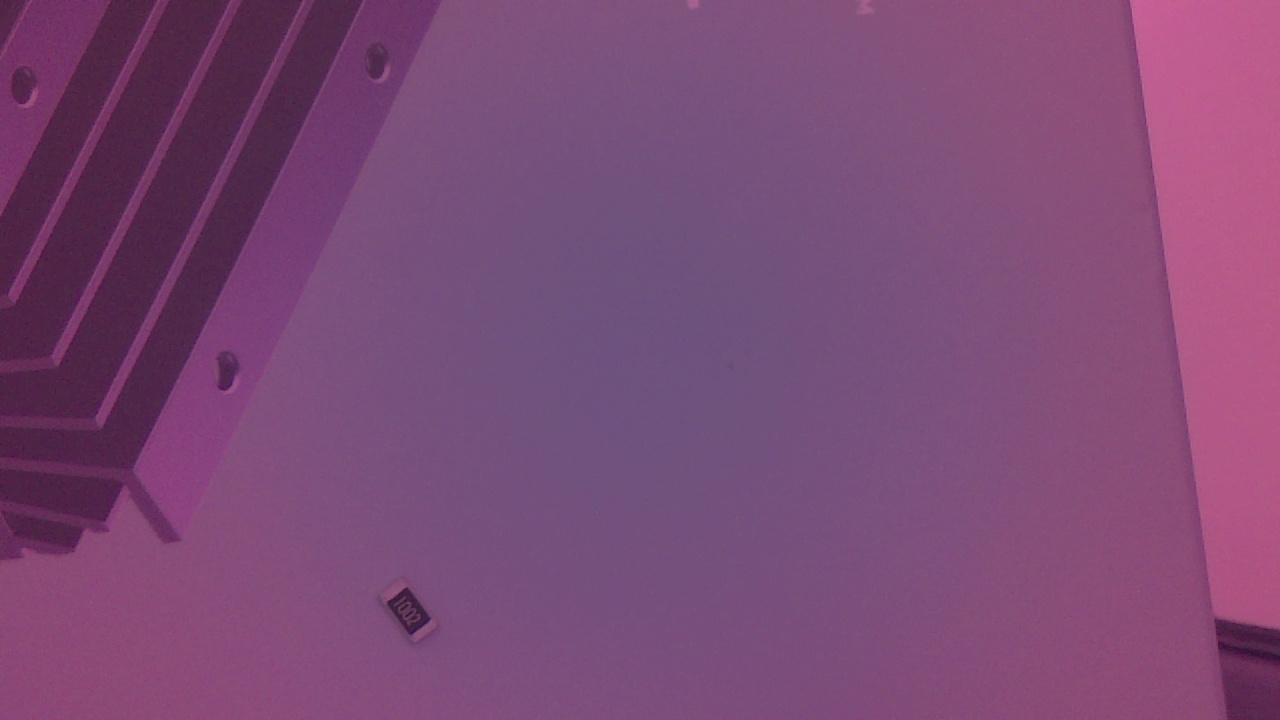Resistor: (377, 579, 450, 653)
